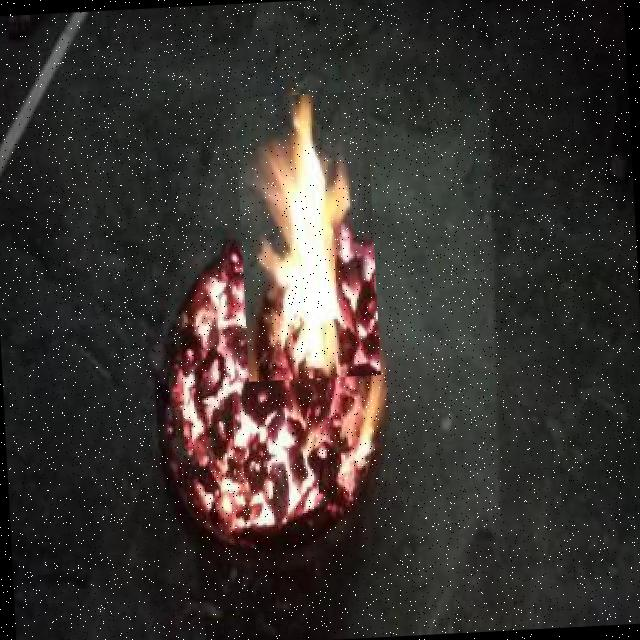fire: (234, 91, 381, 382)
